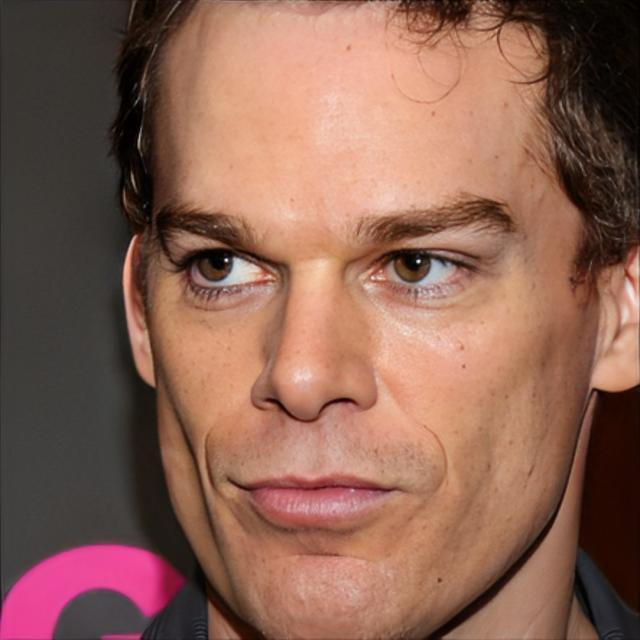content: (152, 0, 598, 640)
